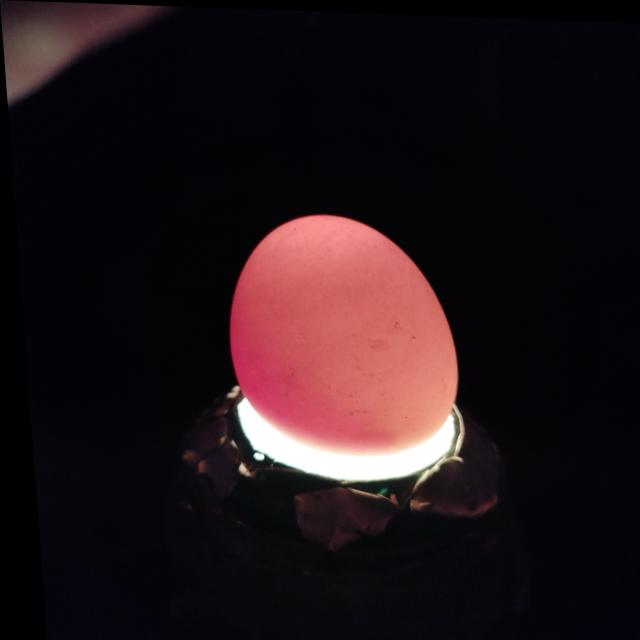Gema Quebrada: (225, 281, 393, 455)
